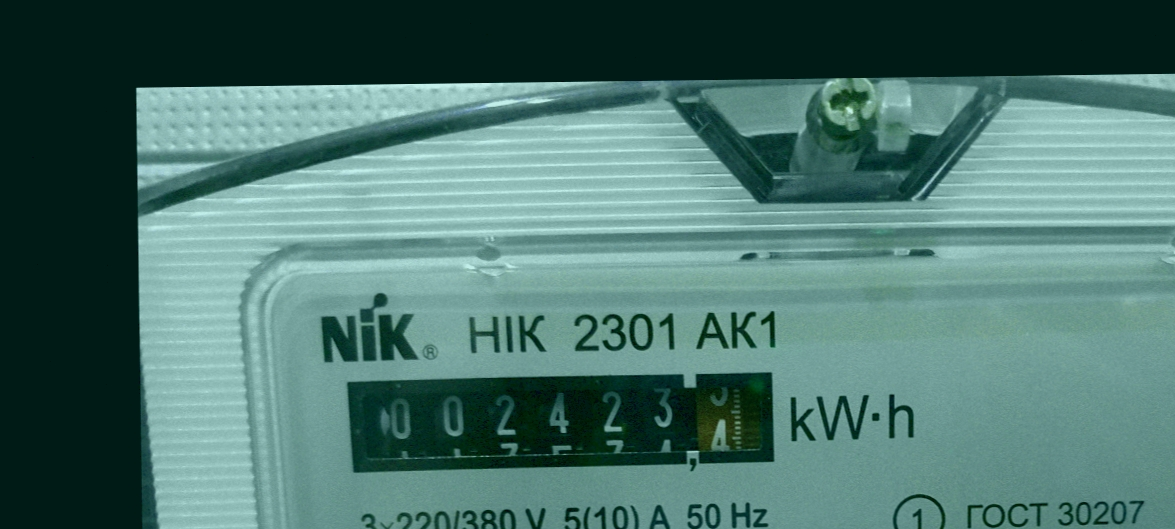0: (388, 392, 416, 441), (442, 392, 467, 437)
2: (493, 389, 520, 436), (601, 387, 625, 433)
3: (652, 383, 676, 428), (710, 382, 731, 405)
4: (548, 388, 571, 434), (708, 413, 734, 451)
screen: (338, 359, 789, 483)
